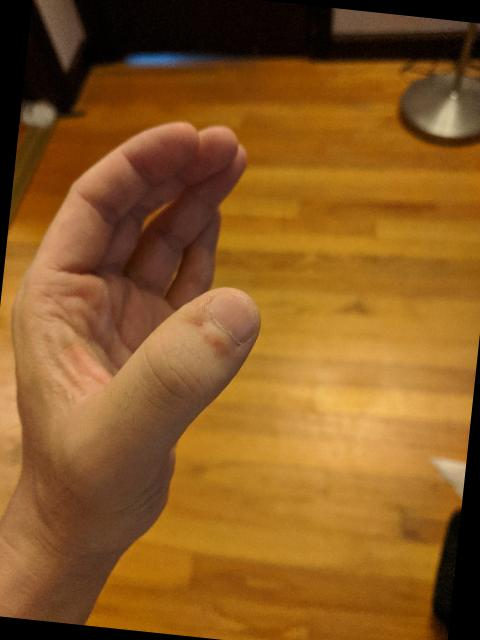C: (0, 98, 288, 559)
